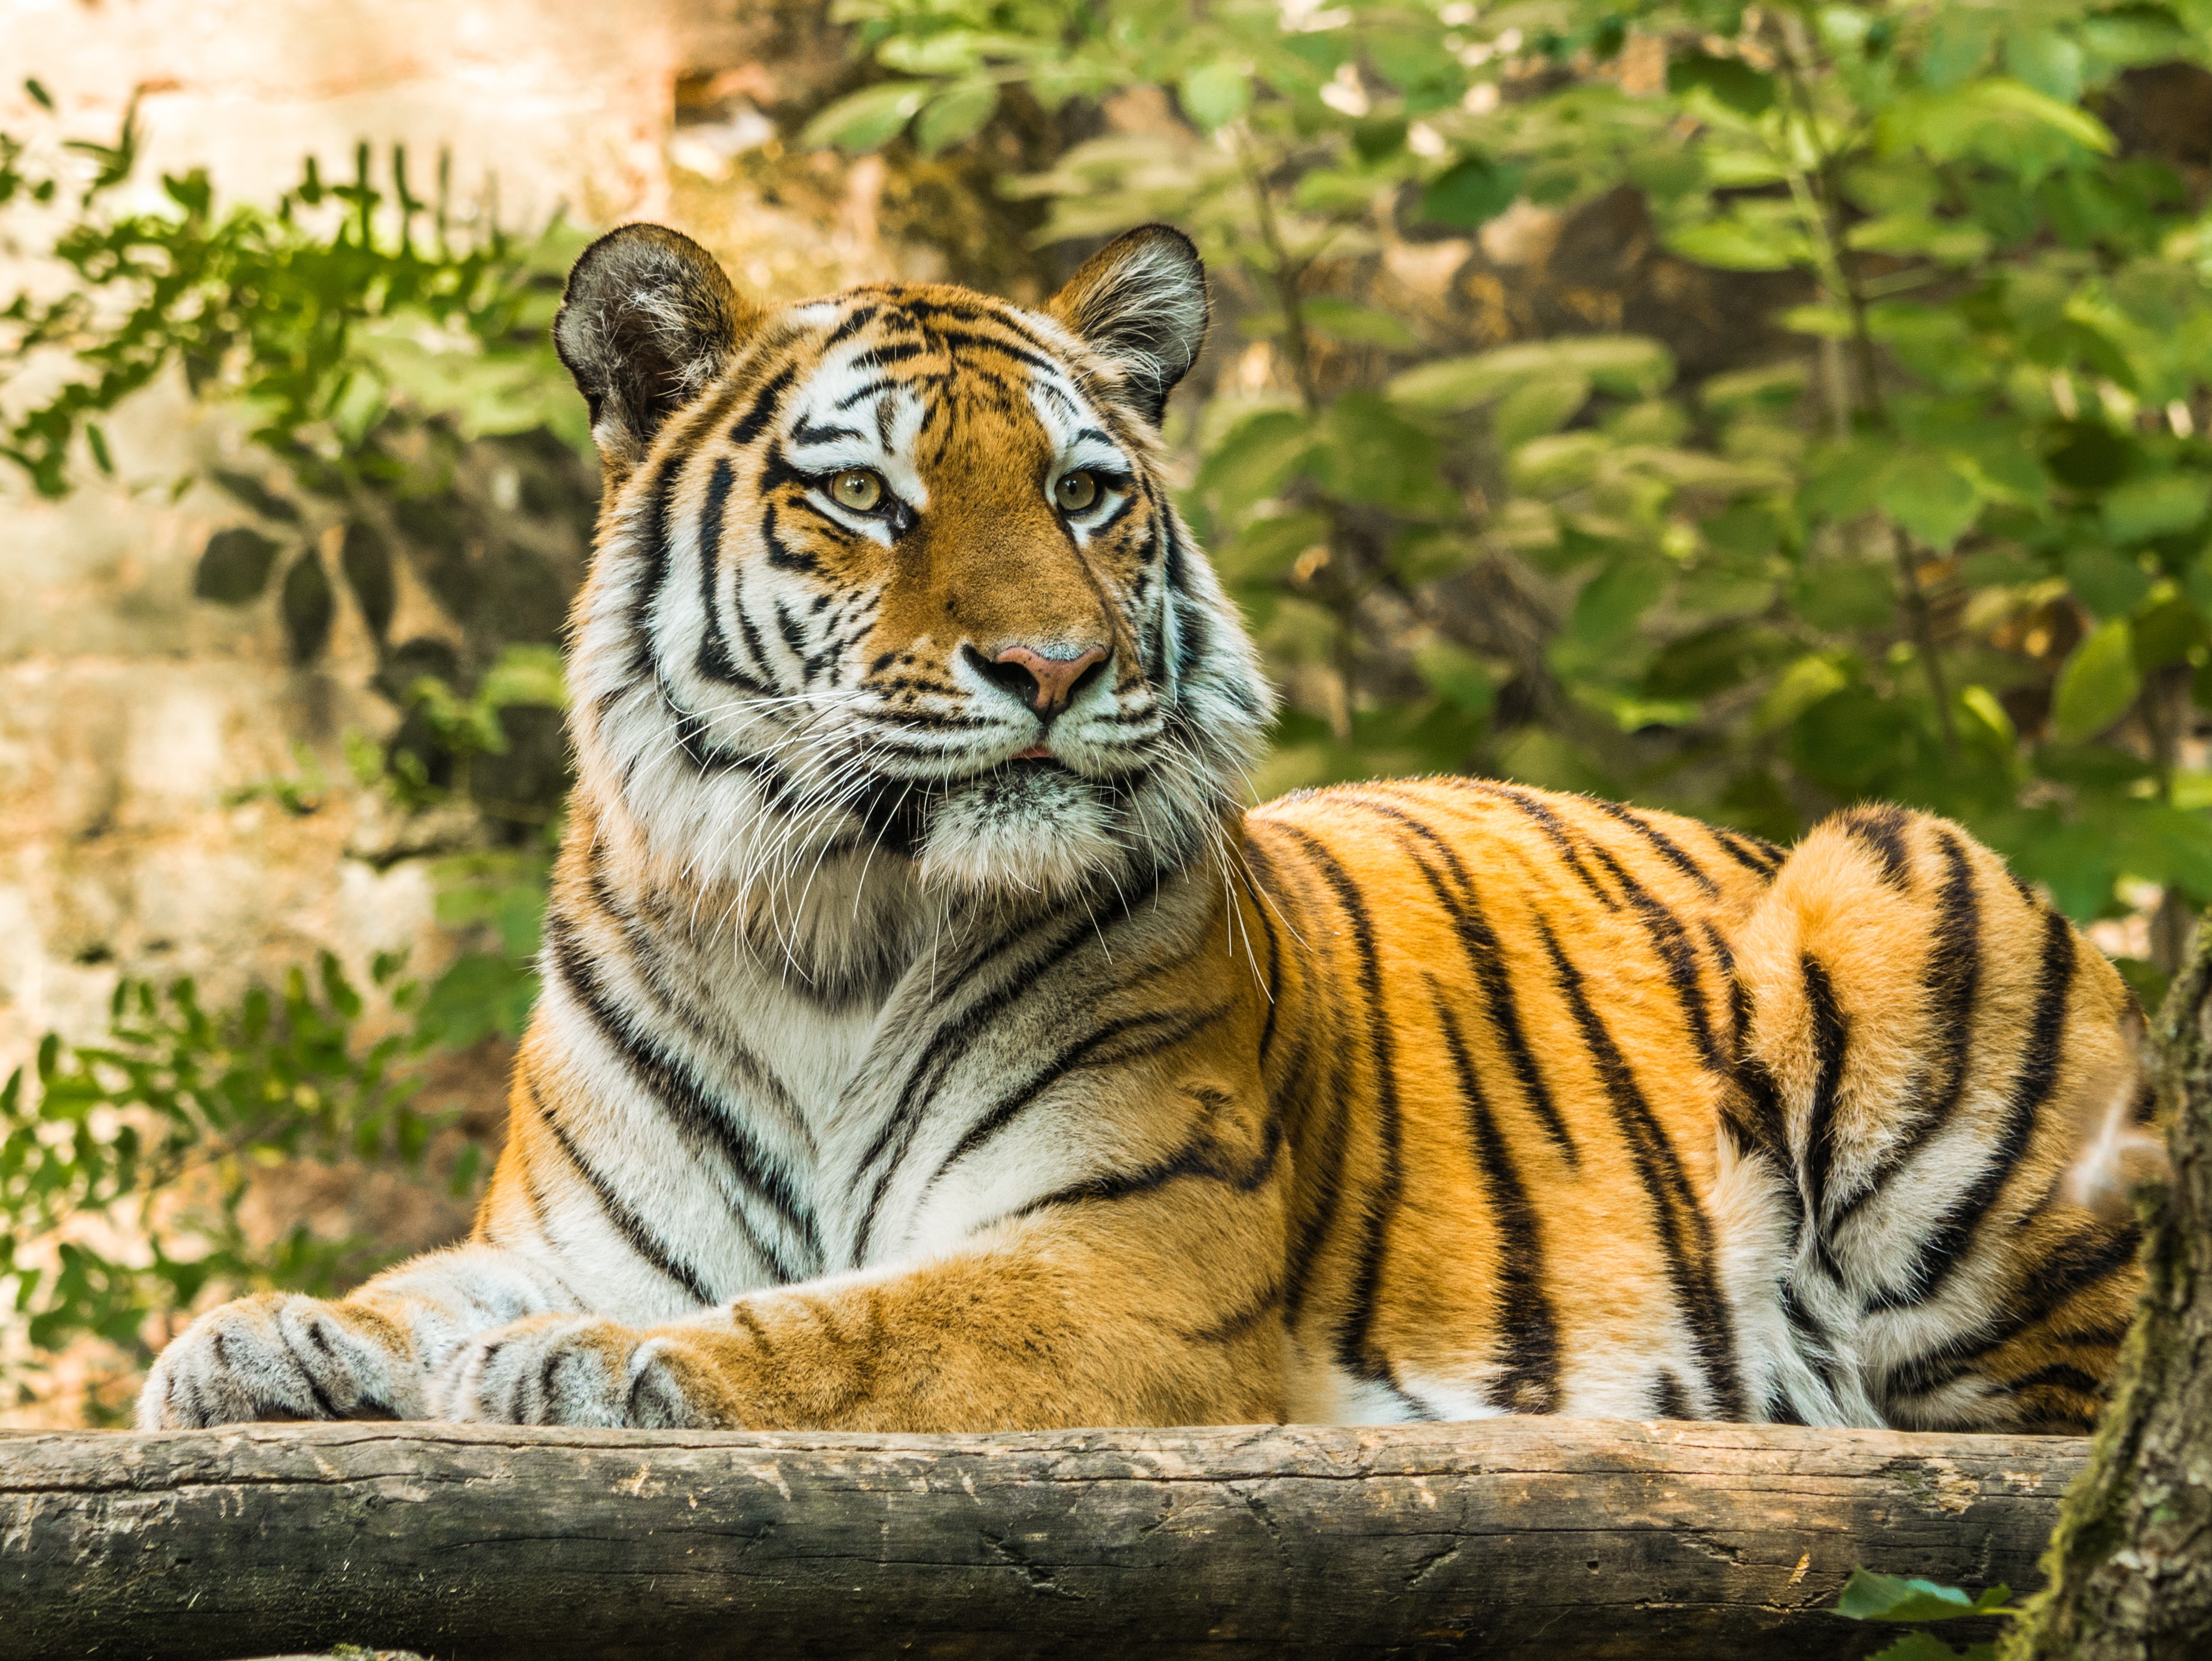tiger: (361, 230, 2092, 1424)
